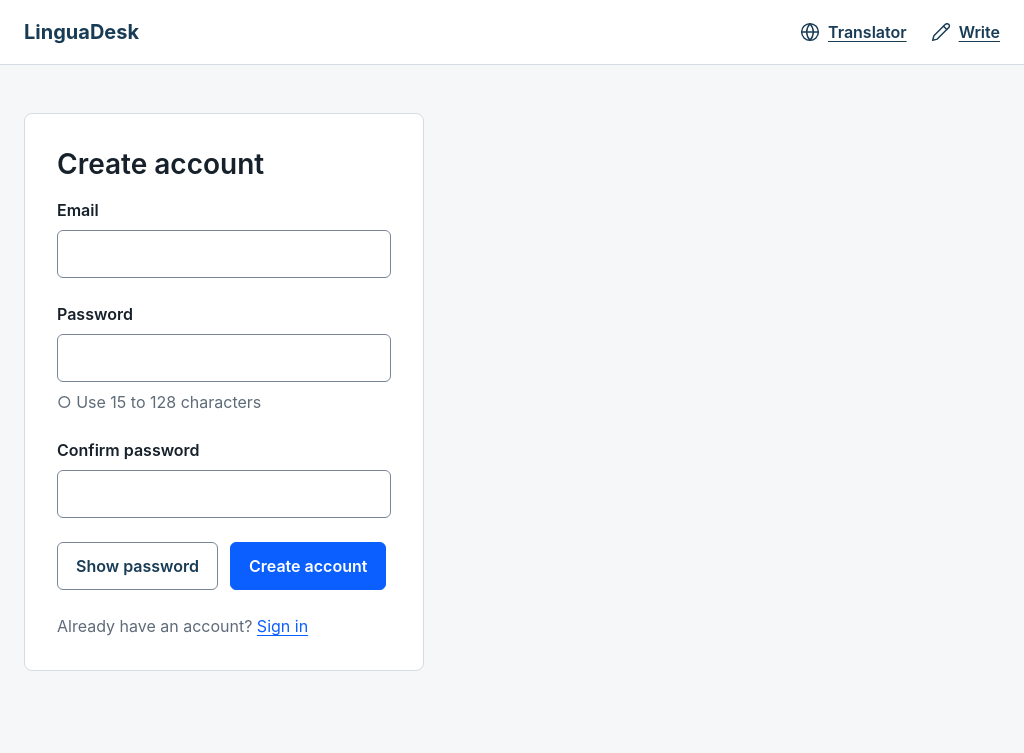
Scenario: registration local validation › sends no request for missing email with linked errors and first-invalid focus
Type "Maple!River2026" into the password field labelled "Password" at coordinates (224, 358), box [57,334,391,382]
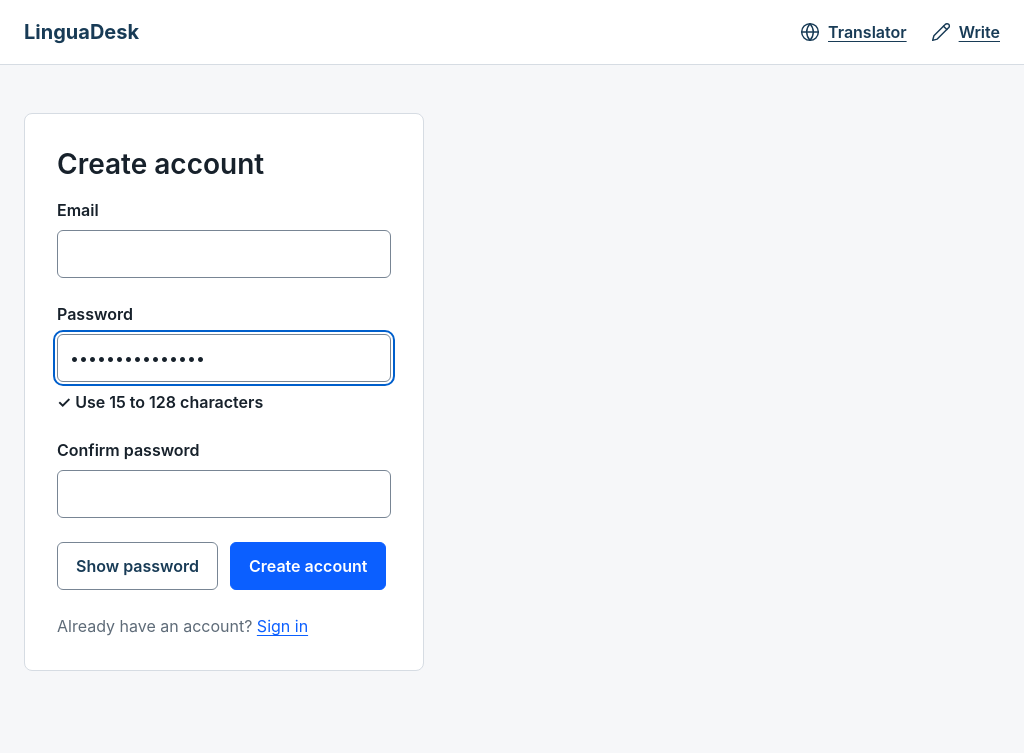
Type "Maple!River2026" into the password field labelled "Confirm password" at coordinates (224, 494), box [57,470,391,518]
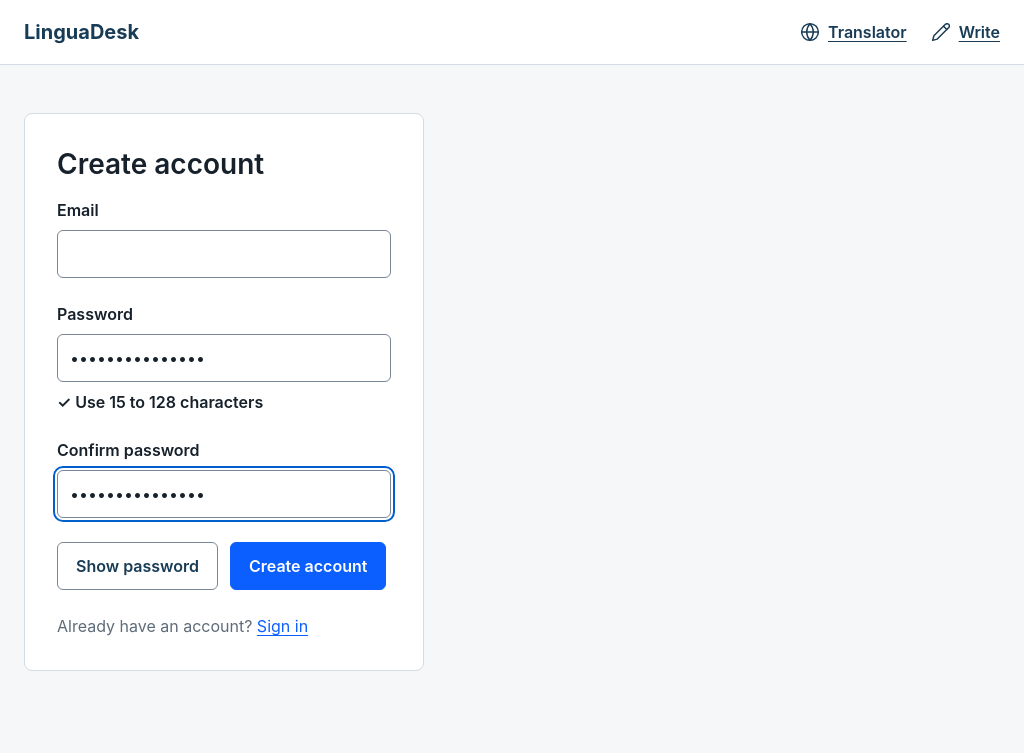
Click the button "Create account" at coordinates (308, 566), box [230,542,386,590]
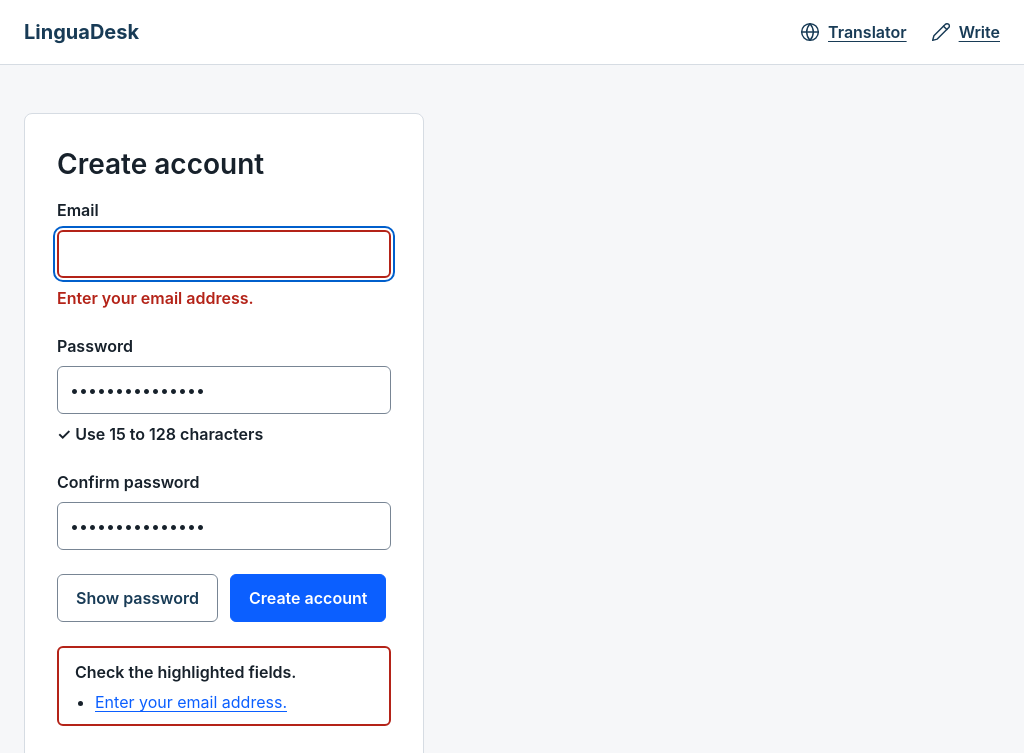
Check: the text "Check the highlighted fields." is shown, box [75,662,296,682]
Check: the text "Enter your email address." is shown, box [57,288,254,308]
